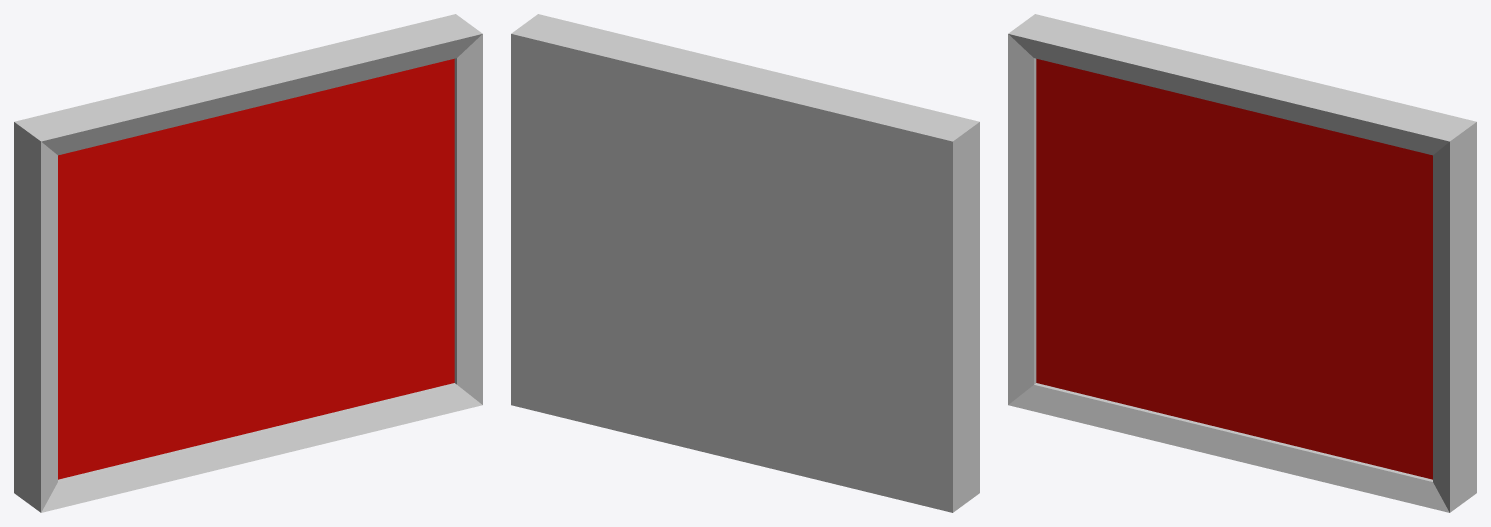
File: PictureFrame.fbx
The picture shows the model from 3 angles, left to right: view 1: azimuth 30°, elevation 25°; view 2: azimuth 150°, elevation 25°; view 3: azimuth 330°, elevation 25°; orthographic projection.
Visible parts, largest first — view 1: Cube.001; view 2: Cube.001; view 3: Cube.001.
Part boxes in pixels (x1,y1,x2,y2): Cube.001: [14, 14, 482, 512]; Cube.001: [511, 14, 979, 512]; Cube.001: [1008, 14, 1476, 512].
Bounding box in the file's own units: 49.7 × 39.93 × 5.27.
